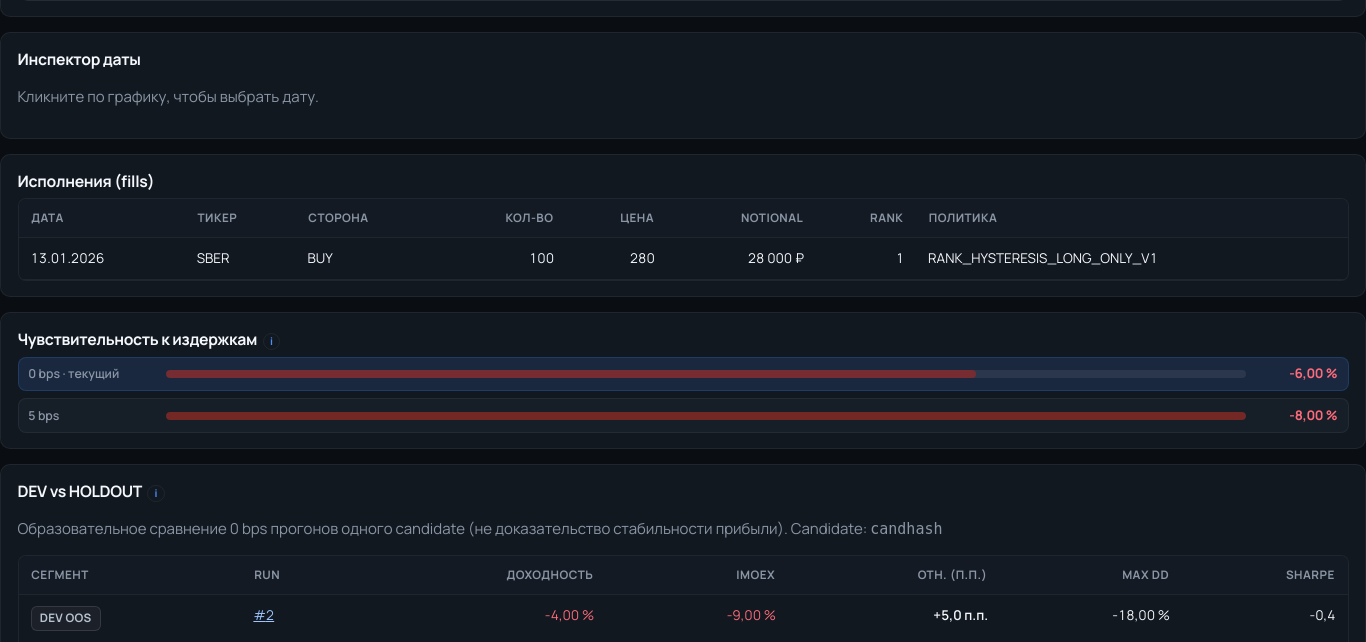
Test case: SimulatorRunPage › opens fill explanation with human summary and technical provenance
This screenshot has width=1366, height=642.
(page scrolled)
Click the text "SBER" at coordinates (240, 259), box [185,238,296,280]
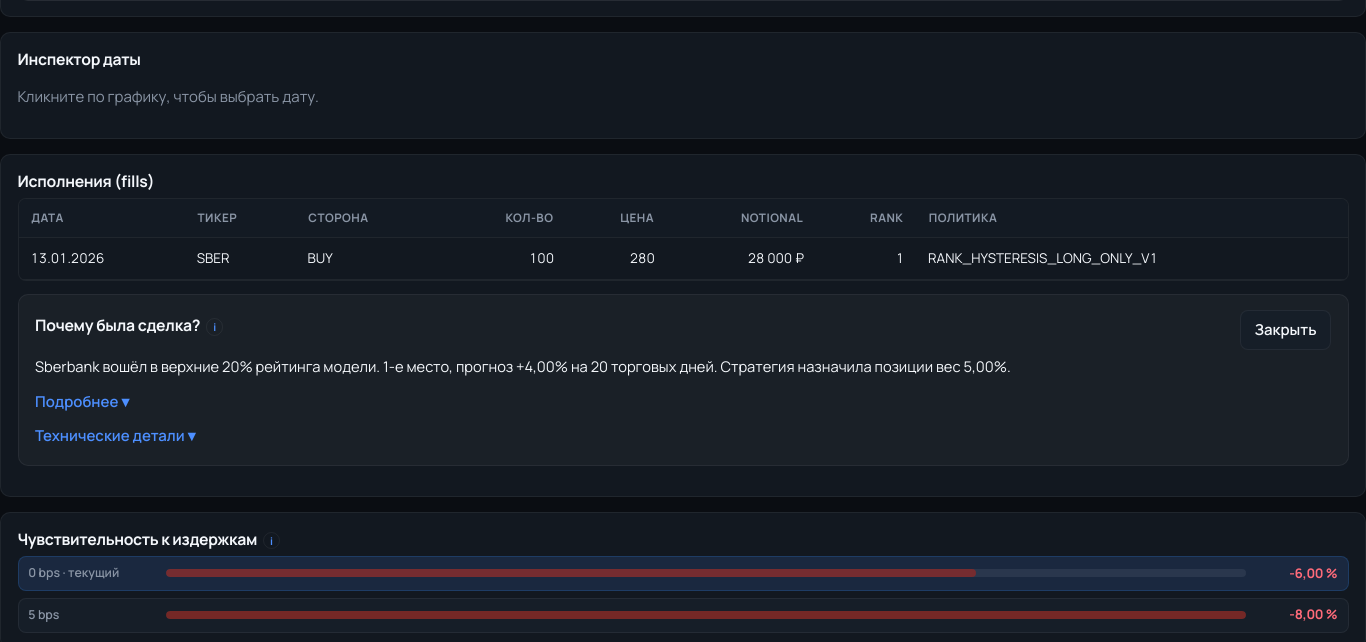
Check: the heading "Почему была сделка? i" is shown, box [35,314,223,337]
Click the button "Технические детали ▾" at coordinates (115, 436), box [35,422,195,450]
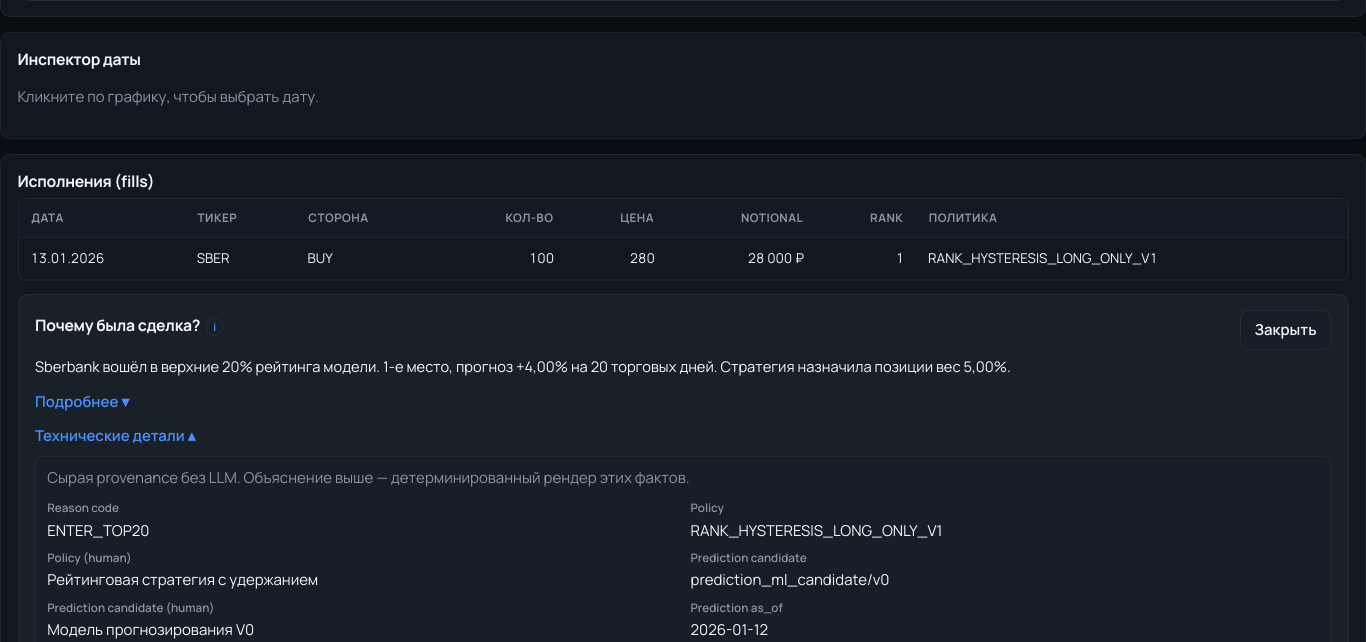
Check: the text "ENTER_TOP20" is shown, box [47,520,150,540]
